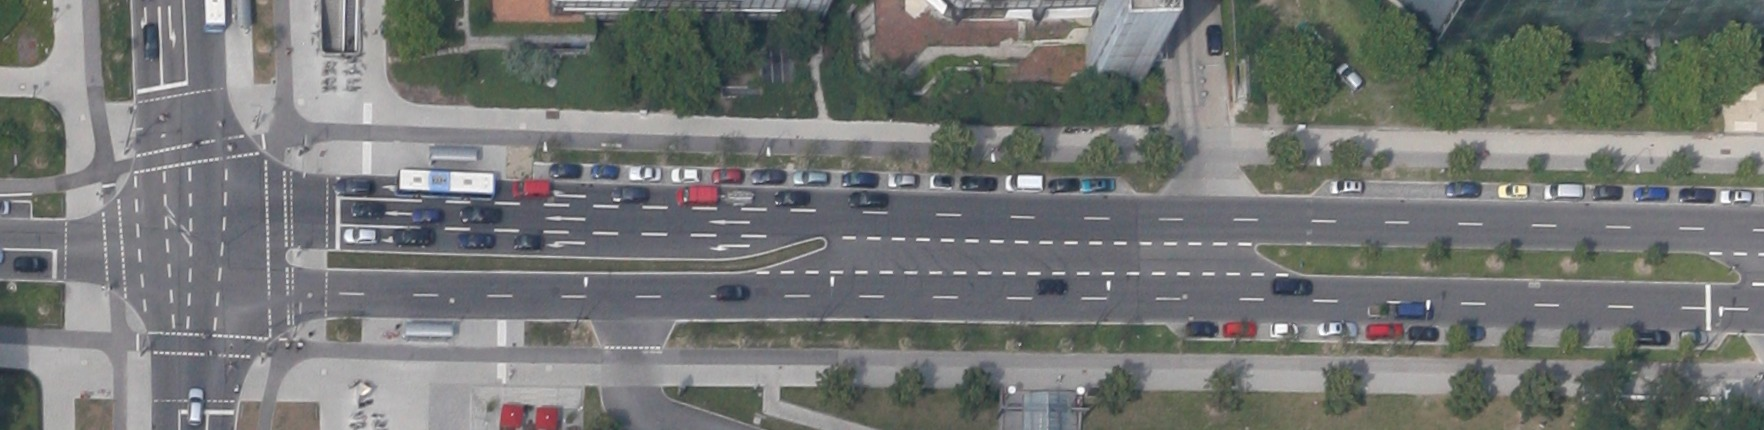car: (1333, 60, 1365, 93), (676, 186, 715, 206), (459, 205, 501, 224), (334, 176, 369, 196), (1394, 301, 1432, 319), (512, 178, 548, 197), (848, 190, 886, 208), (1003, 174, 1042, 192), (394, 229, 431, 247), (610, 185, 647, 203), (1543, 182, 1581, 200), (1272, 278, 1311, 295), (186, 387, 202, 425), (12, 256, 46, 274), (960, 174, 994, 191), (350, 200, 382, 218), (457, 232, 494, 248), (1316, 321, 1356, 335), (715, 284, 749, 301), (1636, 328, 1669, 344), (1366, 322, 1402, 338), (840, 171, 876, 187), (1035, 277, 1066, 295), (1205, 23, 1222, 55), (343, 227, 378, 243), (774, 190, 809, 206), (1444, 180, 1479, 196), (143, 24, 157, 61), (1222, 320, 1255, 335), (1718, 188, 1752, 204), (1633, 186, 1667, 201), (792, 170, 828, 185), (1185, 320, 1217, 335), (750, 168, 783, 183), (1407, 324, 1438, 341), (1678, 187, 1713, 201), (629, 165, 660, 181), (1081, 177, 1115, 191), (886, 171, 917, 187), (712, 168, 742, 183), (670, 165, 699, 182), (1048, 177, 1078, 192), (724, 189, 751, 206), (1327, 179, 1361, 192), (513, 234, 543, 249), (1269, 321, 1297, 337), (1592, 183, 1620, 199), (1497, 182, 1525, 198), (548, 163, 580, 177), (412, 207, 441, 222), (1678, 330, 1707, 344), (589, 163, 618, 178), (1367, 303, 1388, 317), (929, 173, 951, 188)
